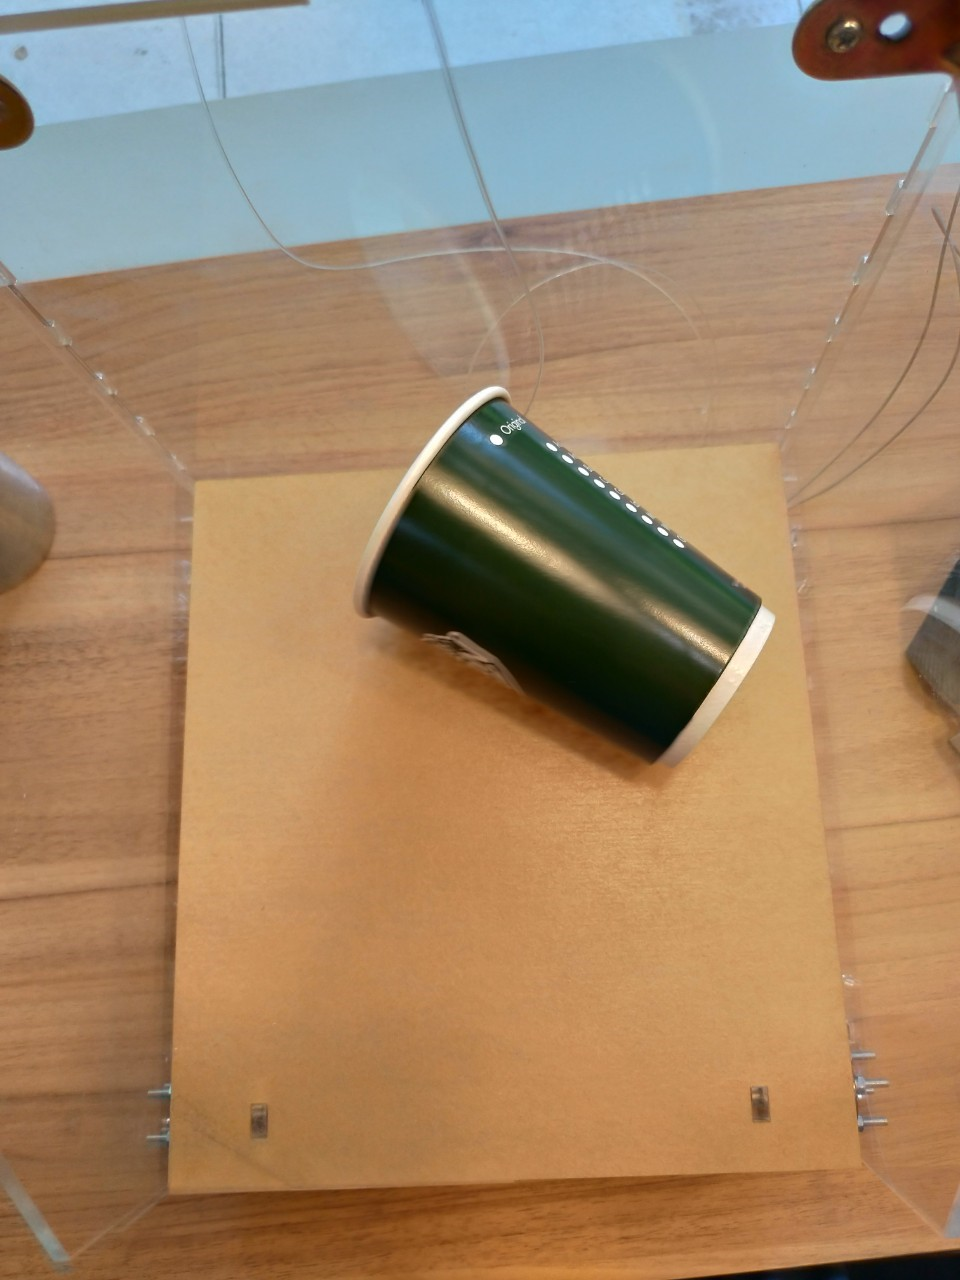PaperCup: (353, 384, 779, 766)
